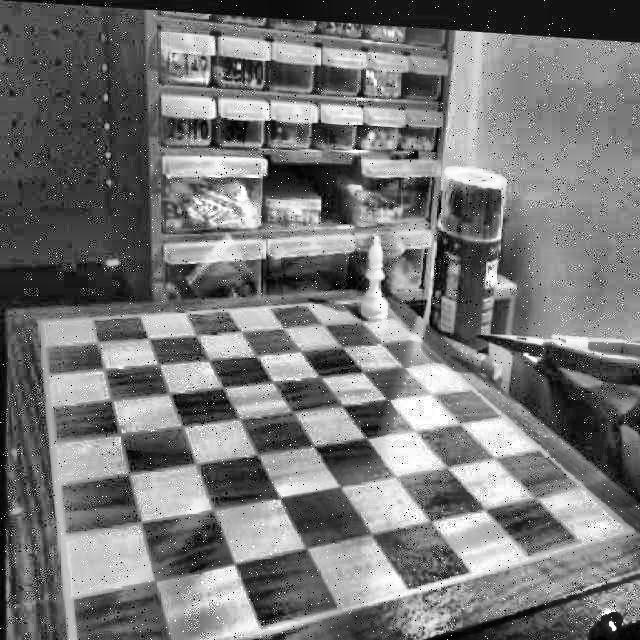white-bishop: (357, 226, 394, 322)
